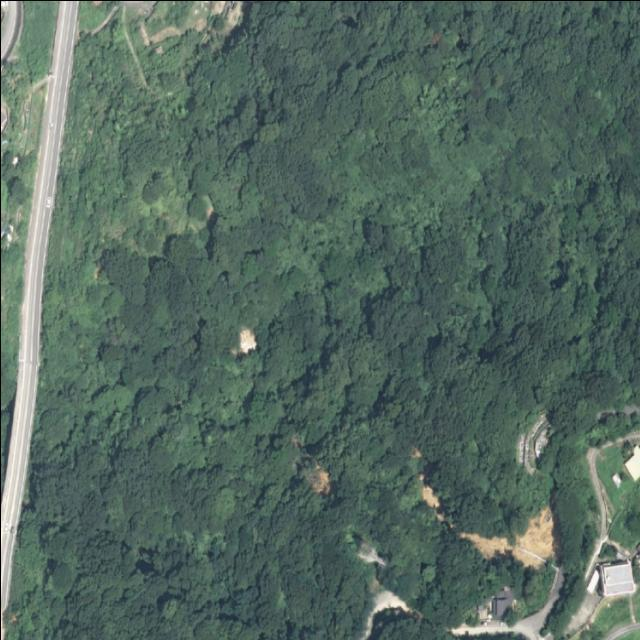landslide: (460, 506, 555, 568)
